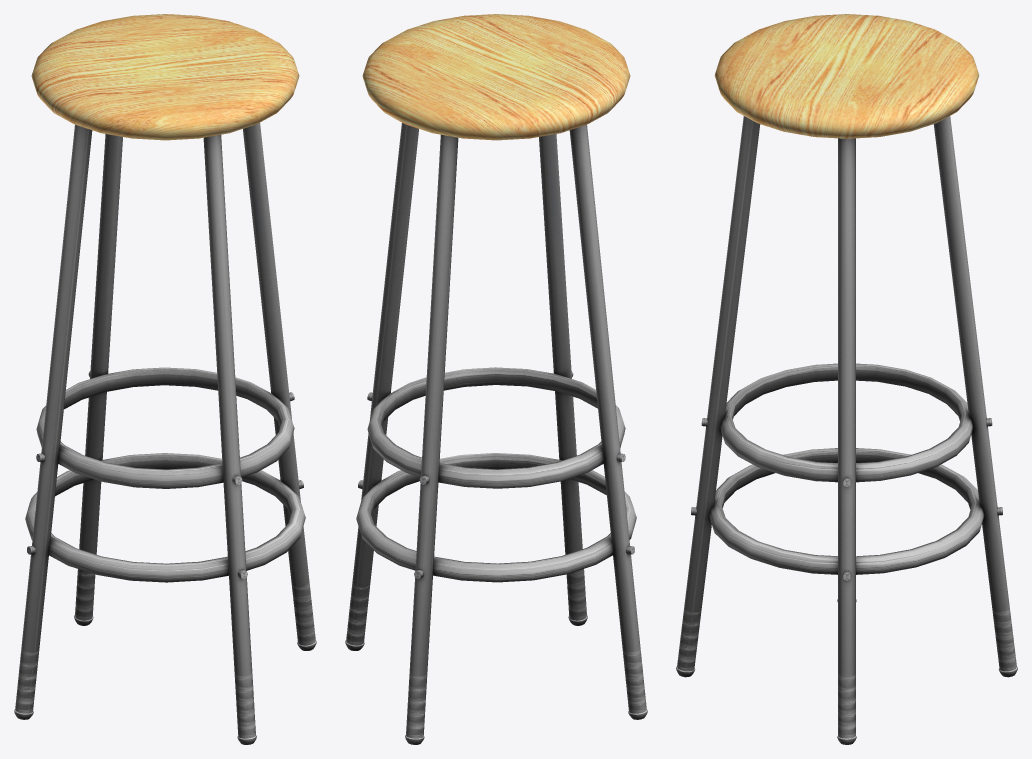
Rendered from chair3.glb.
The picture shows the model from 3 angles, left to right: view 1: azimuth 30°, elevation 25°; view 2: azimuth 150°, elevation 25°; view 3: azimuth 270°, elevation 25°; orthographic projection.
Parts seen in each view (by area): view 1: Circle.025; view 2: Circle.025; view 3: Circle.025.
Part boxes in pixels (bbox=[...]): Circle.025: bbox=[14, 14, 316, 744]; Circle.025: bbox=[345, 14, 647, 744]; Circle.025: bbox=[676, 14, 1017, 744].
Bounding box in the file's own units: 0.8755 × 1.73 × 0.8755.
2 materials, 2 textured.
